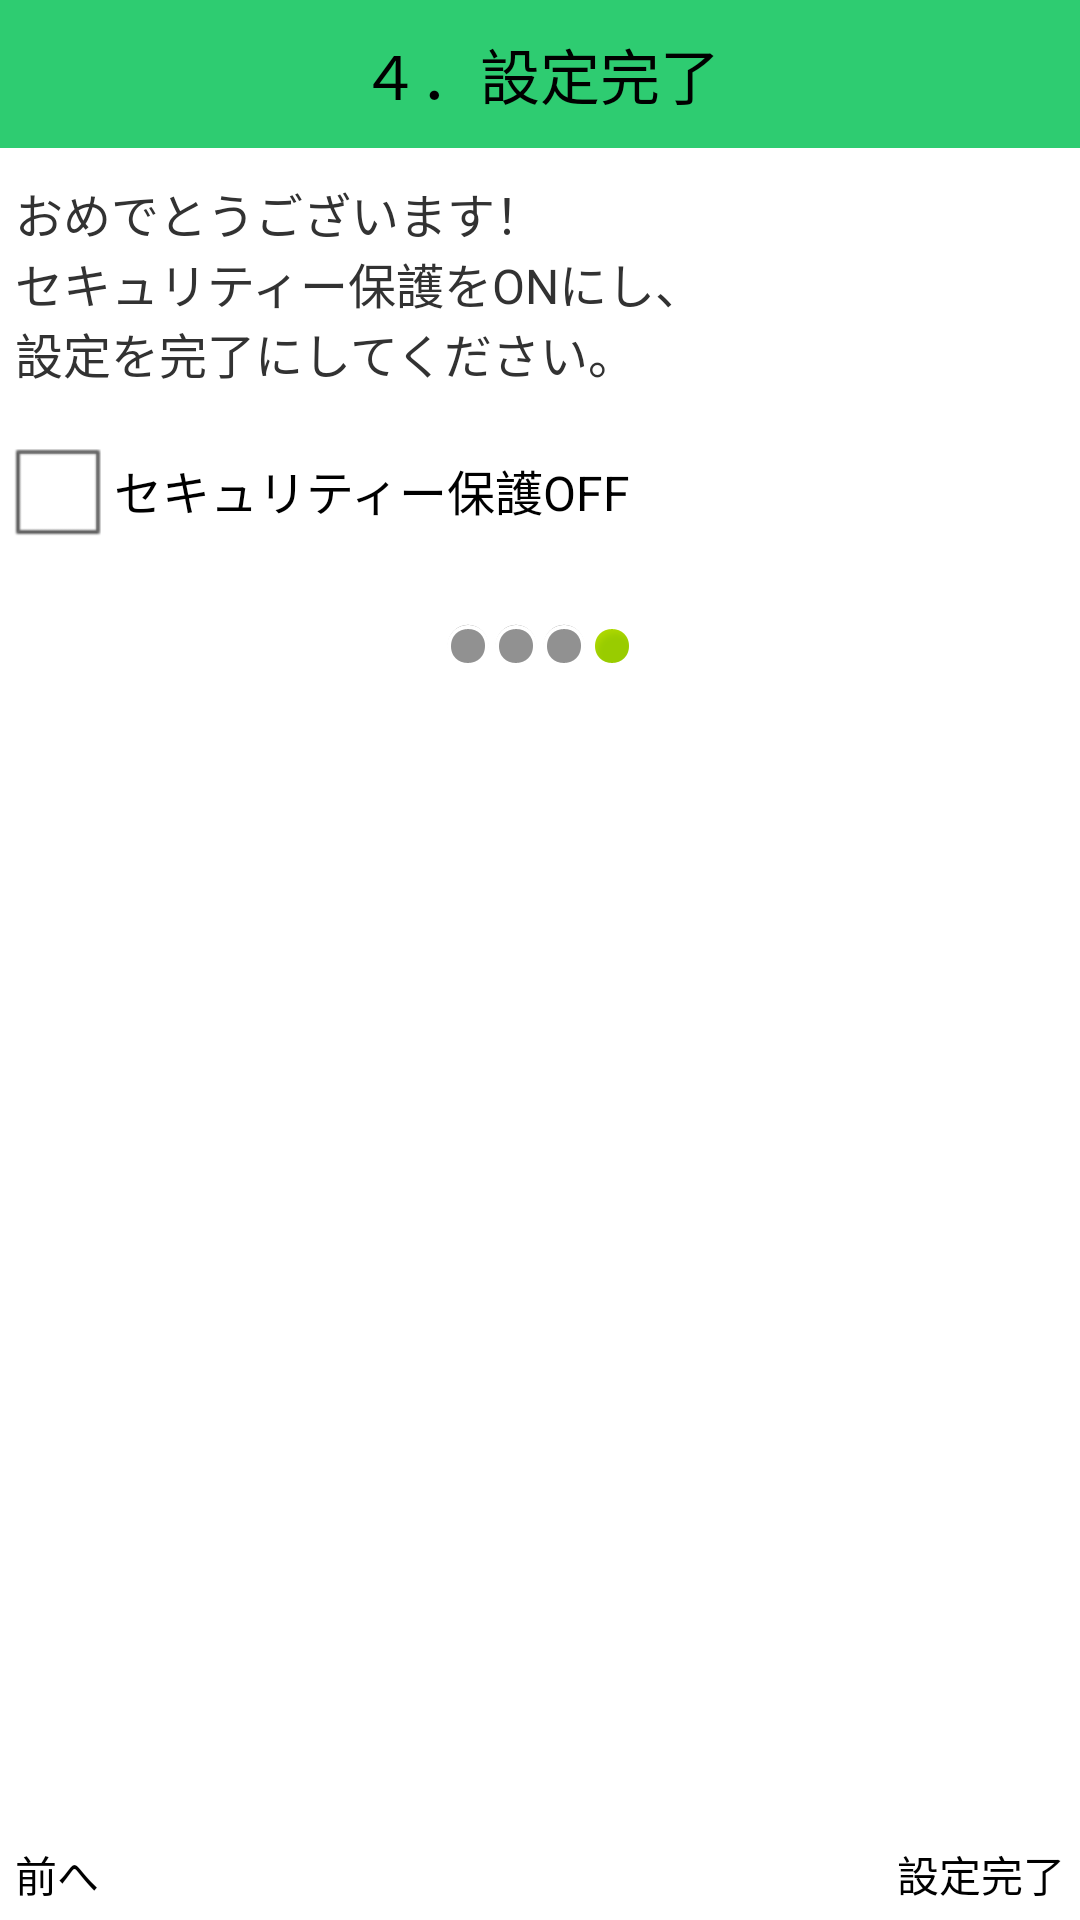

Named icons in this screenshot (1080×1920) and their bounding boxes, (x1, y1, x2, y2):
presence invisible: (451, 625, 485, 663), (499, 625, 533, 663), (547, 625, 581, 663)
presence online: (595, 629, 629, 663)
